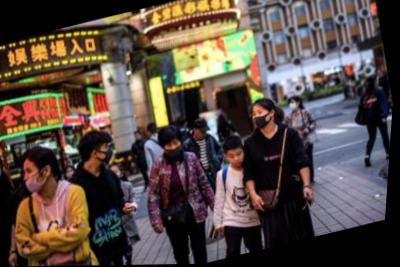NONE: (229, 150, 249, 170), (199, 128, 211, 140), (137, 133, 144, 141)
OK: (252, 107, 274, 131), (99, 142, 117, 163), (289, 99, 301, 113), (1, 160, 8, 182), (68, 168, 78, 180)
WRONG: (23, 162, 48, 196), (165, 138, 187, 160)
